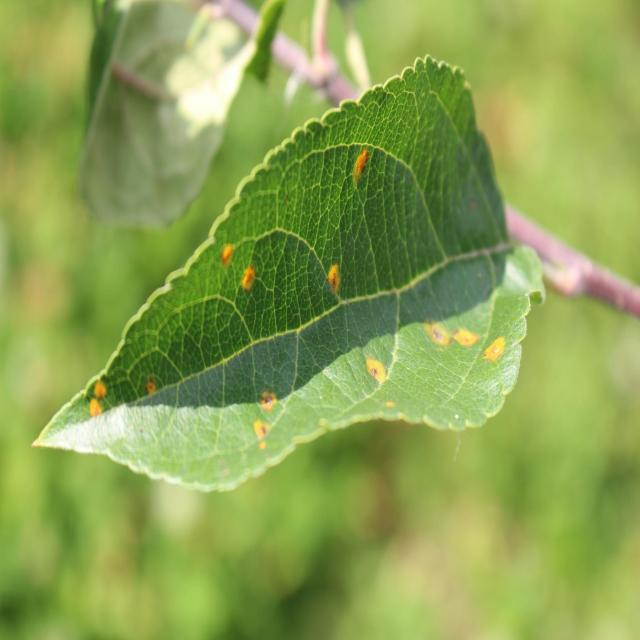Rust: (483, 312, 507, 390), (346, 130, 373, 193), (321, 254, 348, 317), (356, 353, 396, 394), (424, 304, 450, 367), (450, 315, 484, 361), (245, 415, 274, 461), (239, 262, 263, 314), (257, 382, 289, 418), (216, 235, 238, 286), (88, 395, 107, 442), (92, 362, 111, 402), (136, 369, 162, 398)
